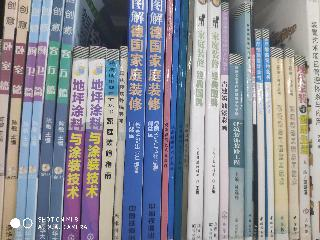book-spine: (1, 1, 31, 240), (25, 0, 53, 240), (49, 0, 77, 240), (14, 0, 42, 239), (36, 0, 64, 239), (123, 0, 147, 240), (142, 1, 166, 239), (63, 47, 88, 239), (189, 2, 208, 240), (82, 47, 105, 240), (0, 0, 17, 227), (99, 50, 118, 239), (270, 48, 288, 239), (181, 2, 195, 239), (206, 2, 220, 239), (161, 1, 174, 239), (175, 2, 188, 239), (285, 49, 299, 239), (169, 1, 180, 238), (296, 56, 310, 239), (262, 29, 274, 240), (114, 46, 127, 239), (231, 54, 243, 239), (250, 2, 258, 239), (244, 3, 252, 239), (256, 30, 265, 239), (221, 4, 228, 239)
